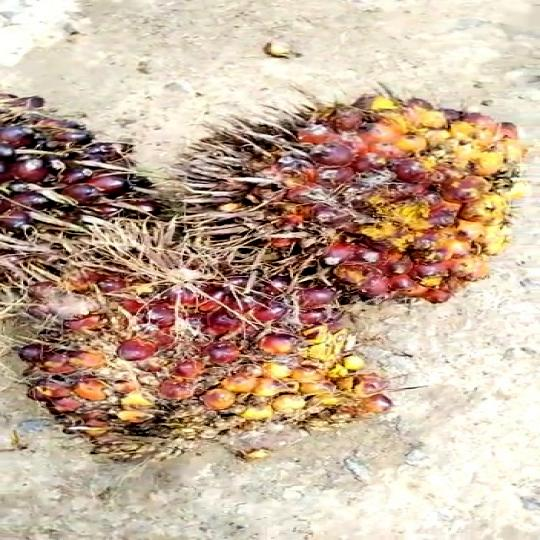masak: (0, 226, 428, 480), (163, 93, 540, 311)
